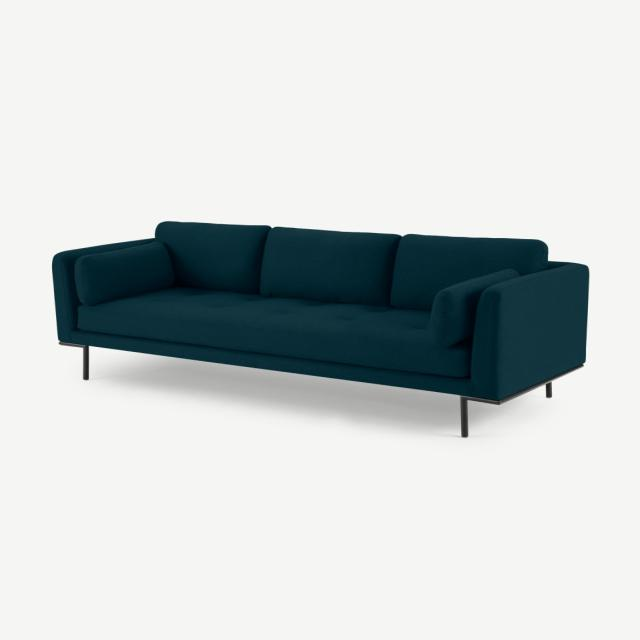back_cushion: (74, 222, 547, 346)
left_arm: (471, 265, 588, 399)
legs: (59, 342, 89, 380), (460, 396, 468, 437), (545, 381, 552, 397)
right_arm: (52, 239, 151, 342)
seat_cushion: (79, 287, 471, 378)
stallion-sofa: (0, 0, 639, 639)
